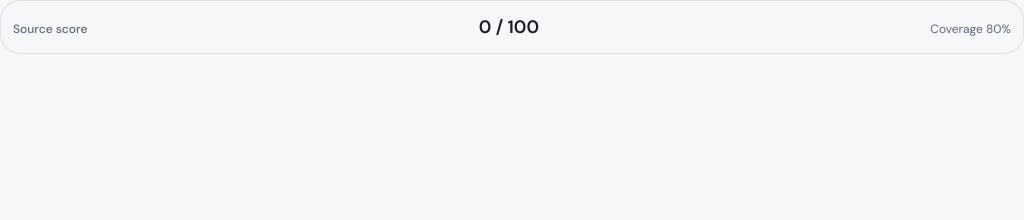
Test case: ScoreBreakdown › suppresses zero-valued component evidence when marked missing by evidenceStatus
Click the text "0 / 100". click: (509, 27)
box: [479,13,539,41]
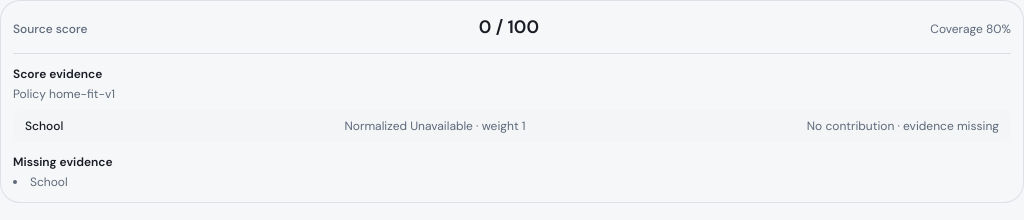
Expected: the text "Normalized Unavailable · weight 1" is shown, [345,118,526,134]
Expected: the text "No contribution · evidence missing" is shown, [807,118,999,134]
